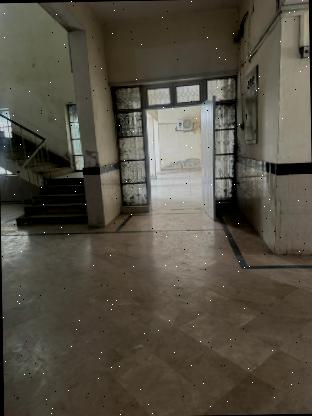door: (108, 70, 240, 219), (13, 168, 91, 230)
